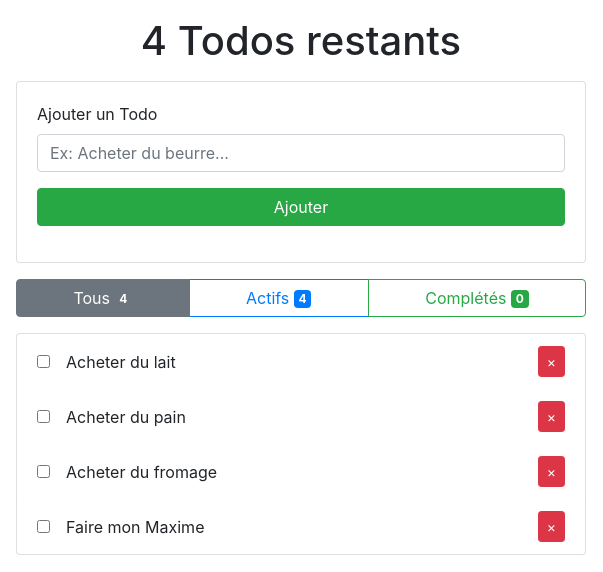
Test: Suppression d'un todo › le compteur de todos restants diminue après une suppression
This screenshot has width=603, height=572.
Click the button named "supprimer \"acheter du lait\"": (551, 362) [538, 346, 565, 377]
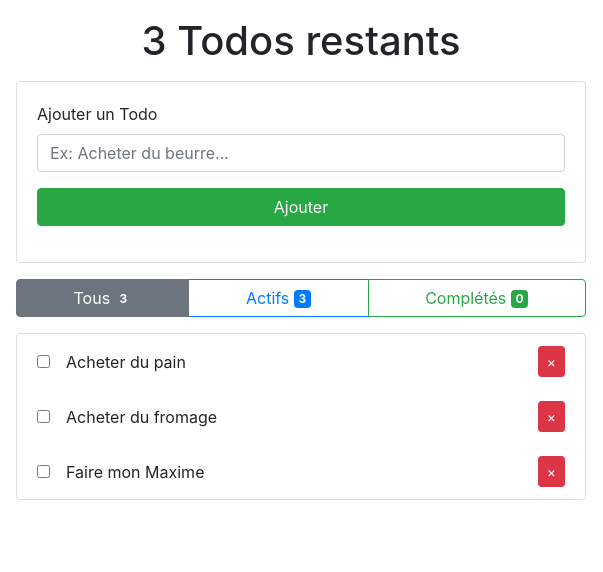
Expected: the heading "3 Todos restants" is shown, [141, 16, 460, 65]
